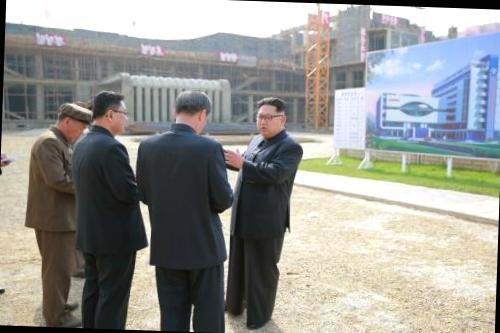no_helmet: (167, 85, 216, 134), (90, 88, 134, 132), (48, 99, 89, 145), (250, 95, 293, 137)
